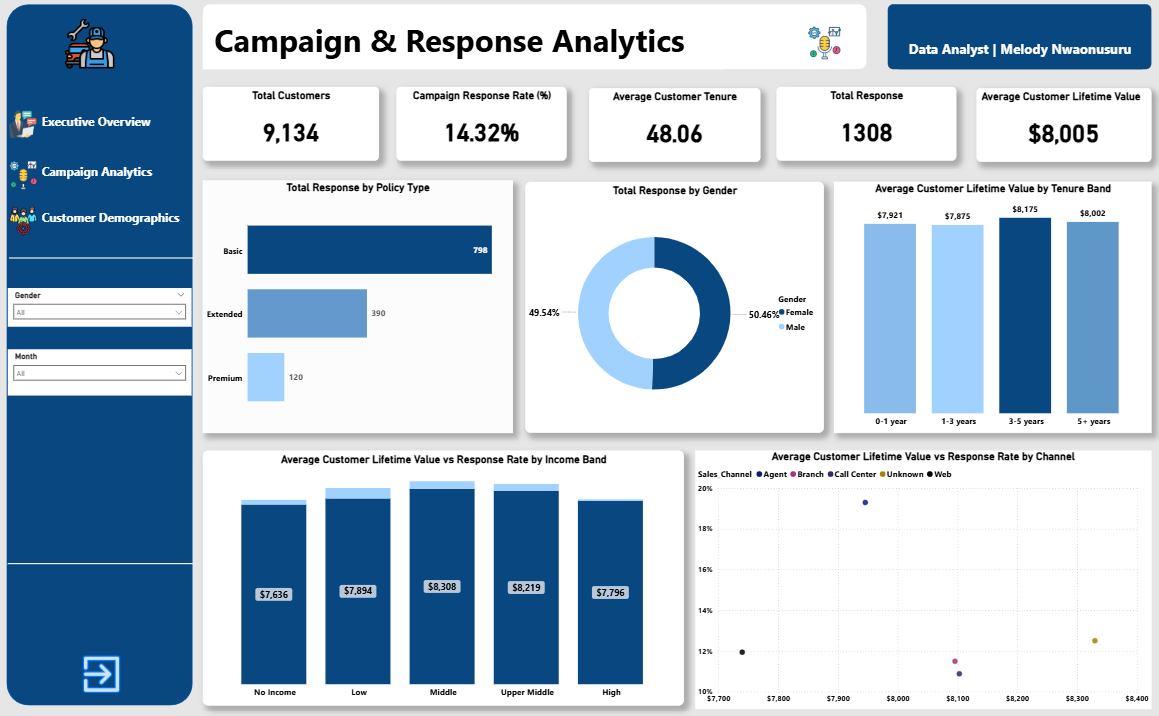

The page's visual inventory and layout, read from the dashboard file:
{"tool":"powerbi","page":{"name":"Campaign & Response Analytics","canvas":[2100,1300],"ordinal":1},"visuals":[{"type":"card","title":"Total Customers","fields":{"Values":["Measures Table.Total_Customer"]},"box":[375.1,168.5,316.7,132.5],"z":0},{"type":"card","title":"Average Customer Lifetime Value","fields":{"Values":["Measures Table.Average CLV"]},"box":[1765.4,170.7,314.4,132.5],"z":1000},{"type":"card","title":"Campaign Response Rate (%)","fields":{"Values":["Measures Table.Overall Successful Rate"]},"box":[723.2,168.5,305.5,132.5],"z":2000},{"type":"shape","box":[22.5,20.2,334.7,1260],"z":3000},{"type":"shape","box":[375.1,20.2,1192.6,116.8],"z":4000},{"type":"textbox","box":[375.1,40.4,934.4,96.6],"z":5000},{"type":"image","box":[114.5,44.9,114.5,92.1],"z":6000},{"type":"image","box":[1446.4,60.6,92.1,58.4],"z":7000},{"type":"card","title":"Total Response","fields":{"Values":["Measures Table.Total Positive Response"]},"box":[1406,168.5,323.4,132.5],"z":8000},{"type":"card","title":"Average Customer Tenure","fields":{"Values":["Measures Table.Average Customer Tenure"]},"box":[1069.1,170.7,307.7,132.5],"z":9000},{"type":"clusteredBarChart","title":"Total Response by Policy Type","fields":{"Category":["Marketing_Clean.Coverage"],"Y":["Measures Table.Total Positive Response"]},"box":[375.1,336.9,557,453.7],"z":10000},{"type":"donutChart","title":"Total Response by Gender","fields":{"Category":["Marketing_Clean.Gender"],"Y":["Measures Table.Total Positive Response"]},"box":[954.6,339.2,536.8,451.5],"z":11000},{"type":"clusteredColumnChart","title":"Average Customer Lifetime Value by Tenure Band","fields":{"Category":["Marketing_Clean.Tenure"],"Y":["Measures Table.Average CLV"]},"box":[1509.3,339.2,570.5,451.5],"z":12000},{"type":"lineStackedColumnComboChart","title":"Average Customer Lifetime Value vs Response Rate by Income Band","fields":{"Category":["Marketing_Clean.Income Band"],"Y":["Measures Table.Average CLV","Measures Table.Total Positive Response"]},"box":[375.1,822.1,864.7,458.2],"z":13000},{"type":"scatterChart","title":"Average Customer Lifetime Value vs Response Rate by Channel","fields":{"X":["Measures Table.Average CLV"],"Y":["Measures Table.Campaign Response Rate"],"Series":["Marketing_Clean.Sales_Channel"]},"box":[1260,822.1,819.8,464.9],"z":14000},{"type":"shape","box":[1605.9,20.2,473.9,116.8],"z":15000},{"type":"slicer","fields":{"Values":["Marketing_Clean.Gender"]},"box":[24.7,530.1,330.2,69.6],"z":16000},{"type":"slicer","title":"Month","fields":{"Values":["DateTable.Month Name"]},"box":[24.7,640.1,330.2,83.1],"z":17000},{"type":"image","box":[157.2,1190.4,71.9,67.4],"z":18000},{"type":"shape","box":[24.7,876,332.4,298.7],"z":19000},{"type":"image","box":[22.5,211.1,58.4,49.4],"z":20000},{"type":"image","box":[24.7,301,56.2,51.7],"z":21000},{"type":"image","box":[24.7,384.1,56.2,51.7],"z":22000},{"type":"shape","box":[27,422.3,332.4,107.8],"z":23000},{"type":"textbox","box":[80.9,211.1,274,67.4],"z":24000},{"type":"textbox","box":[80.9,301,274,51.7],"z":25000},{"type":"textbox","box":[80.9,384.1,274,74.1],"z":26000},{"type":"textbox","box":[1626.1,78.6,435.7,58.4],"z":27000}]}

Visuals, with their boxes on the page's 2100x1300 design canvas (x1, y1, x2, y2). These are canvas units, not pixel positions in the 1159x716 screenshot, which may show the page scaled, cropped or inside an application window:
"Total Customers" card: bbox(375, 168, 692, 301)
"Average Customer Lifetime Value" card: bbox(1765, 171, 2080, 303)
"Campaign Response Rate (%)" card: bbox(723, 168, 1029, 301)
shape: bbox(22, 20, 357, 1280)
shape: bbox(375, 20, 1568, 137)
textbox: bbox(375, 40, 1310, 137)
image: bbox(114, 45, 229, 137)
image: bbox(1446, 61, 1538, 119)
"Total Response" card: bbox(1406, 168, 1729, 301)
"Average Customer Tenure" card: bbox(1069, 171, 1377, 303)
"Total Response by Policy Type" clusteredBarChart: bbox(375, 337, 932, 791)
"Total Response by Gender" donutChart: bbox(955, 339, 1491, 791)
"Average Customer Lifetime Value by Tenure Band" clusteredColumnChart: bbox(1509, 339, 2080, 791)
"Average Customer Lifetime Value vs Response Rate by Income Band" lineStackedColumnComboChart: bbox(375, 822, 1240, 1280)
"Average Customer Lifetime Value vs Response Rate by Channel" scatterChart: bbox(1260, 822, 2080, 1287)
shape: bbox(1606, 20, 2080, 137)
slicer - Marketing_Clean.Gender: bbox(25, 530, 355, 600)
"Month" slicer: bbox(25, 640, 355, 723)
image: bbox(157, 1190, 229, 1258)
shape: bbox(25, 876, 357, 1175)
image: bbox(22, 211, 81, 260)
image: bbox(25, 301, 81, 353)
image: bbox(25, 384, 81, 436)
shape: bbox(27, 422, 359, 530)
textbox: bbox(81, 211, 355, 278)
textbox: bbox(81, 301, 355, 353)
textbox: bbox(81, 384, 355, 458)
textbox: bbox(1626, 79, 2062, 137)
